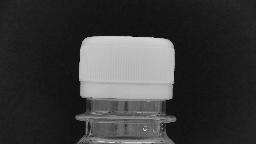Loose Cap: (72, 76, 180, 125)
